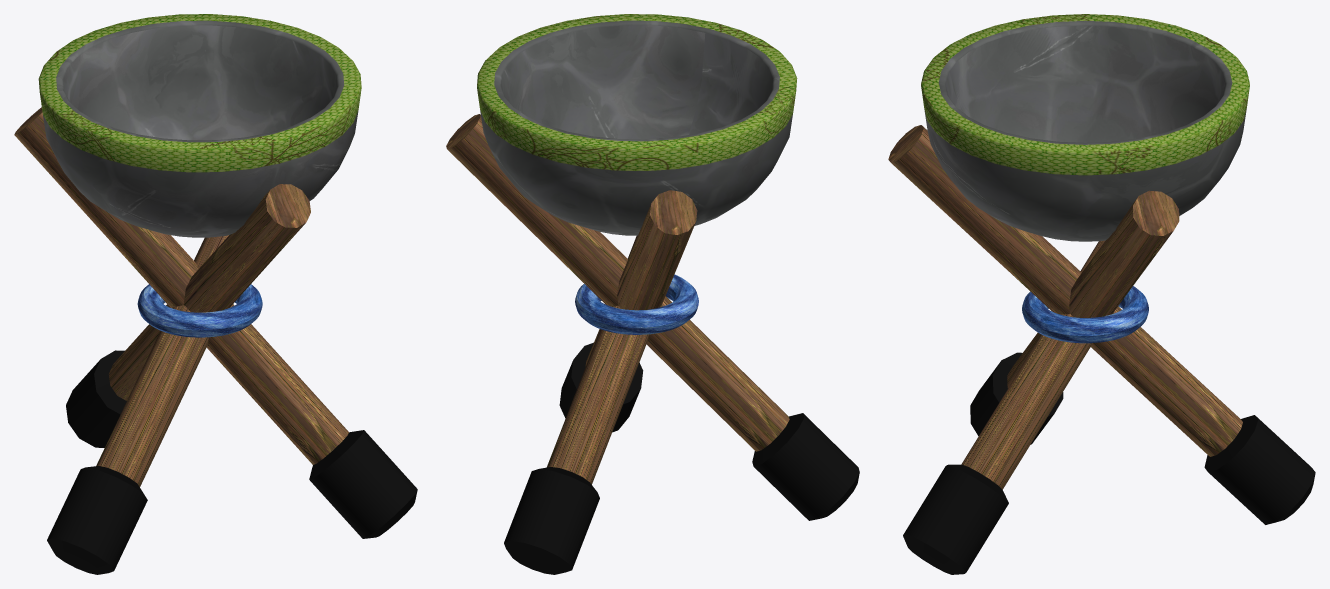
The model's file is HookObject.fbx.
The picture shows the model from 3 angles, left to right: view 1: azimuth 30°, elevation 25°; view 2: azimuth 150°, elevation 25°; view 3: azimuth 270°, elevation 25°; orthographic projection. The views are drawn at different scales.
Parts seen in each view (by area): view 1: Decretive Medieval Bowl (Free), Cylinder.004, Cylinder.001, Cylinder.003, Torus; view 2: Decretive Medieval Bowl (Free), Cylinder.001, Cylinder.003, Cylinder.004, Torus; view 3: Decretive Medieval Bowl (Free), Cylinder.003, Cylinder.004, Cylinder.001, Torus.
Part boxes in pixels (x1=…): Decretive Medieval Bowl (Free): x1=38, y1=14, x2=361, y2=237; Cylinder.004: x1=14, y1=107, x2=417, y2=538; Cylinder.001: x1=47, y1=235, x2=228, y2=574; Cylinder.003: x1=66, y1=184, x2=310, y2=447; Torus: x1=137, y1=284, x2=262, y2=337; Decretive Medieval Bowl (Free): x1=477, y1=14, x2=797, y2=235; Cylinder.001: x1=446, y1=114, x2=859, y2=520; Cylinder.003: x1=504, y1=235, x2=648, y2=574; Cylinder.004: x1=559, y1=190, x2=697, y2=432; Torus: x1=575, y1=274, x2=698, y2=334; Decretive Medieval Bowl (Free): x1=921, y1=14, x2=1249, y2=241; Cylinder.003: x1=888, y1=125, x2=1315, y2=524; Cylinder.004: x1=903, y1=240, x2=1105, y2=574; Cylinder.001: x1=970, y1=190, x2=1179, y2=444; Torus: x1=1022, y1=286, x2=1148, y2=343.
Bounding box in the file's own units: 20.29 × 24.51 × 21.7.
Materials: 5 (4 with a texture image).
